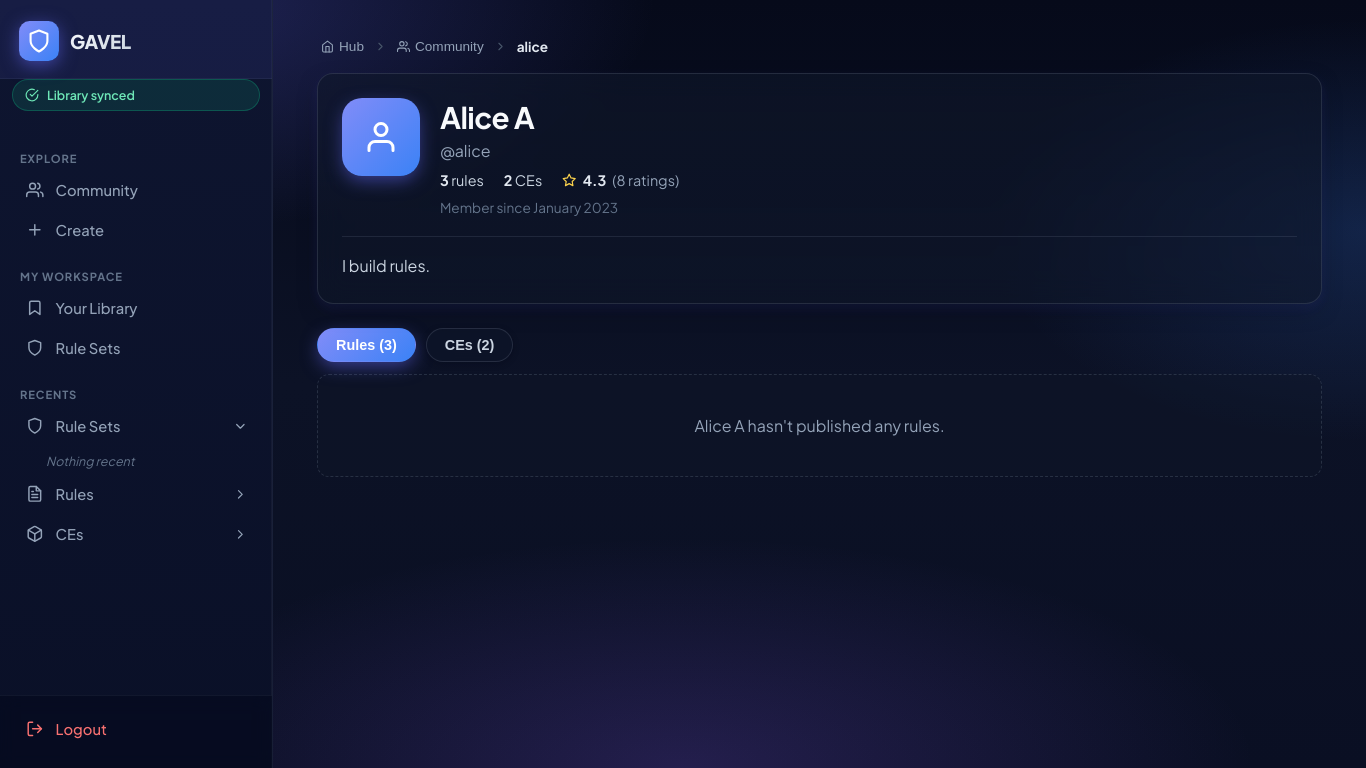
Profile — tabs › shows ce empty-state copy when on the CE tab with no items
Expected: the heading "Alice A" is shown, [440, 98, 534, 136]
Click the button "CEs (2)" at (470, 345), box [426, 328, 513, 362]
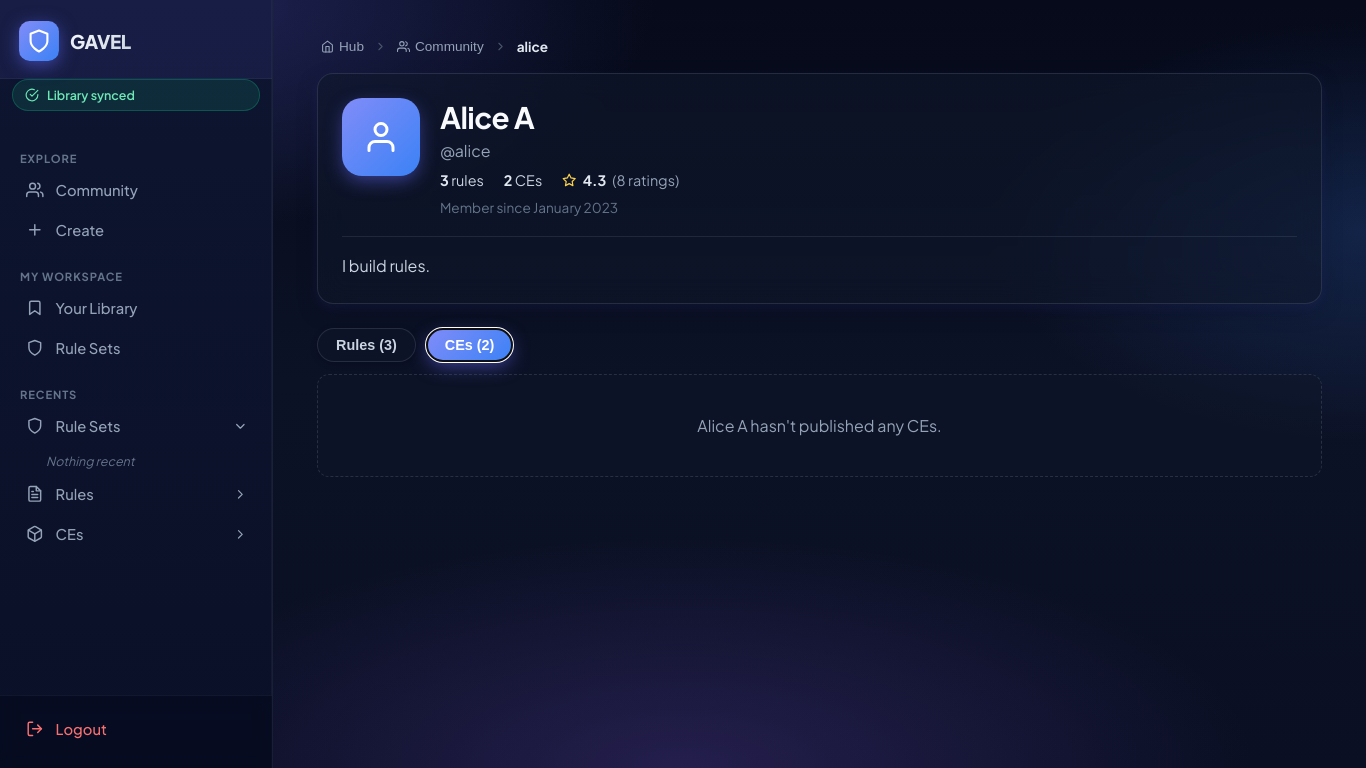
Result: the text "Alice A hasn't published any CEs." is shown at [317, 374, 1322, 477]
